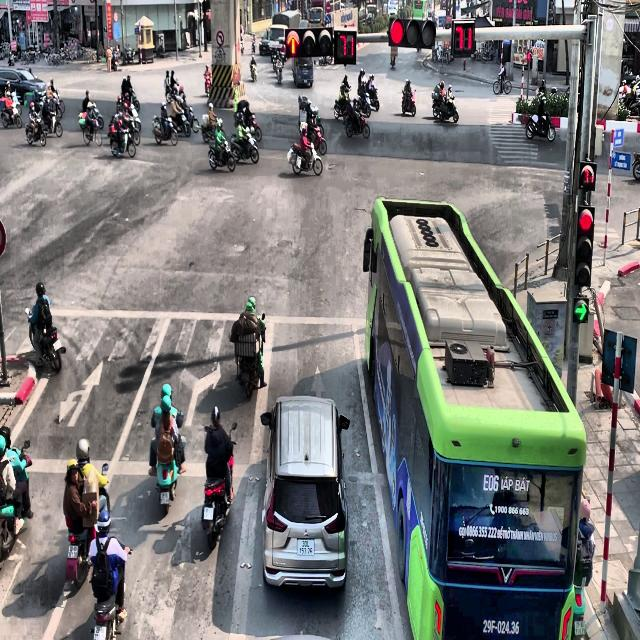BUS: (363, 197, 593, 639)
CAR: (260, 395, 350, 590), (0, 67, 47, 105)
MOTORBIKE: (64, 463, 110, 588), (201, 422, 237, 550), (0, 438, 33, 563), (89, 546, 132, 640), (235, 313, 266, 398), (25, 307, 65, 372), (154, 428, 180, 514), (288, 142, 322, 176), (526, 110, 556, 142), (230, 132, 259, 164), (109, 125, 136, 158), (208, 139, 235, 172), (151, 114, 178, 146), (432, 92, 458, 123), (78, 102, 104, 132), (25, 112, 47, 146), (344, 110, 370, 138), (0, 96, 22, 128), (201, 115, 224, 143), (42, 110, 62, 138), (493, 70, 512, 94), (355, 92, 371, 117), (402, 88, 416, 116), (366, 87, 379, 111), (272, 56, 283, 84), (632, 152, 640, 180), (249, 57, 257, 81), (204, 75, 211, 97)
TRAFFIC_LIGHT: (574, 203, 595, 288), (388, 17, 436, 49), (284, 27, 332, 58), (452, 19, 475, 55), (334, 30, 356, 64), (579, 161, 596, 190), (285, 30, 300, 58)
